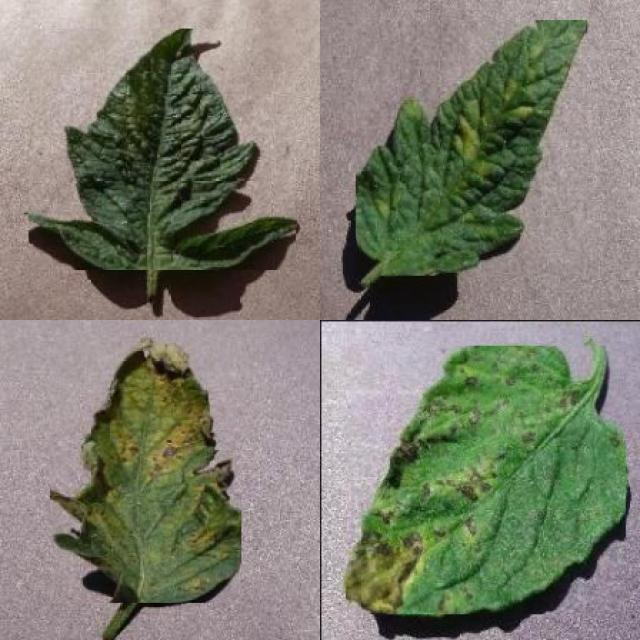Leaf Mold: (356, 20, 588, 276)
Septoria: (345, 345, 626, 615), (50, 337, 241, 603)
Spider Mites: (28, 29, 296, 270)
